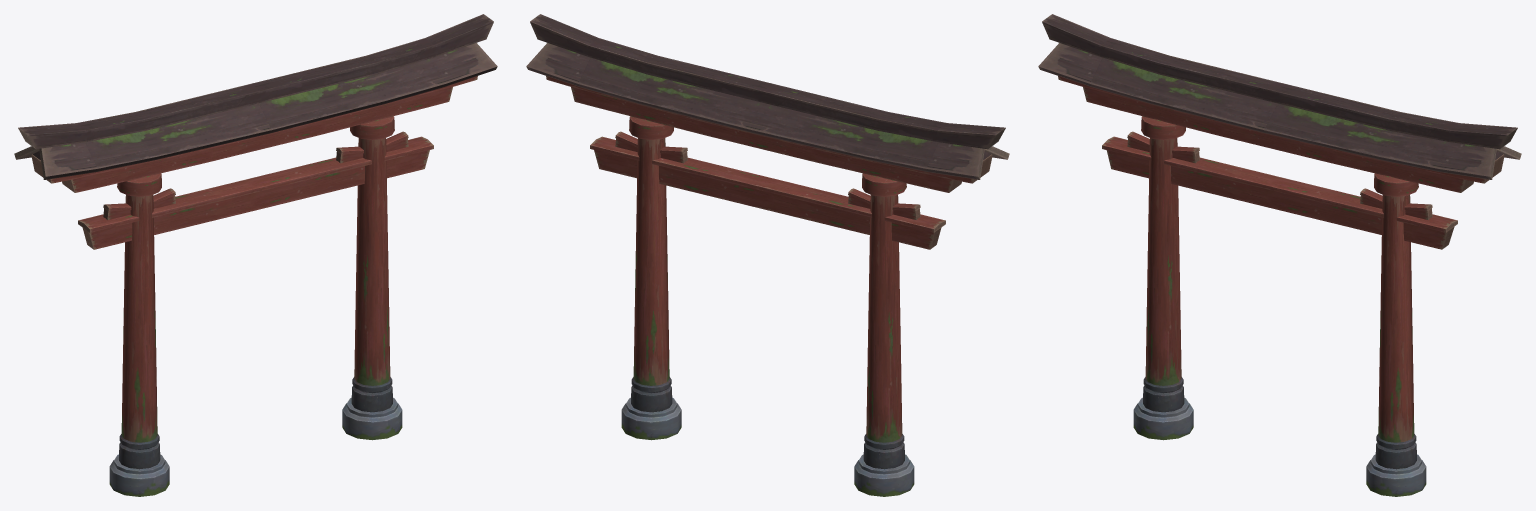
The model's file is Homeworld_Exterior_Dq_Build_House_33_Lod0.fbx.
3 views of the same model, side by side, from view 1: azimuth 30°, elevation 25°; view 2: azimuth 150°, elevation 25°; view 3: azimuth 330°, elevation 25° (orthographic).
Parts seen in each view (by area): view 1: Area_Dq_Build_Common_Niaoju_01_Lod0; view 2: Area_Dq_Build_Common_Niaoju_01_Lod0; view 3: Area_Dq_Build_Common_Niaoju_01_Lod0.
Part boxes in pixels (<box>): Area_Dq_Build_Common_Niaoju_01_Lod0: <box>14,14,497,496</box>; Area_Dq_Build_Common_Niaoju_01_Lod0: <box>526,14,1009,496</box>; Area_Dq_Build_Common_Niaoju_01_Lod0: <box>1038,14,1521,496</box>.
Size of the model in its own units: 7.77 by 6.08 by 0.9093.
1 material, 1 textured.
